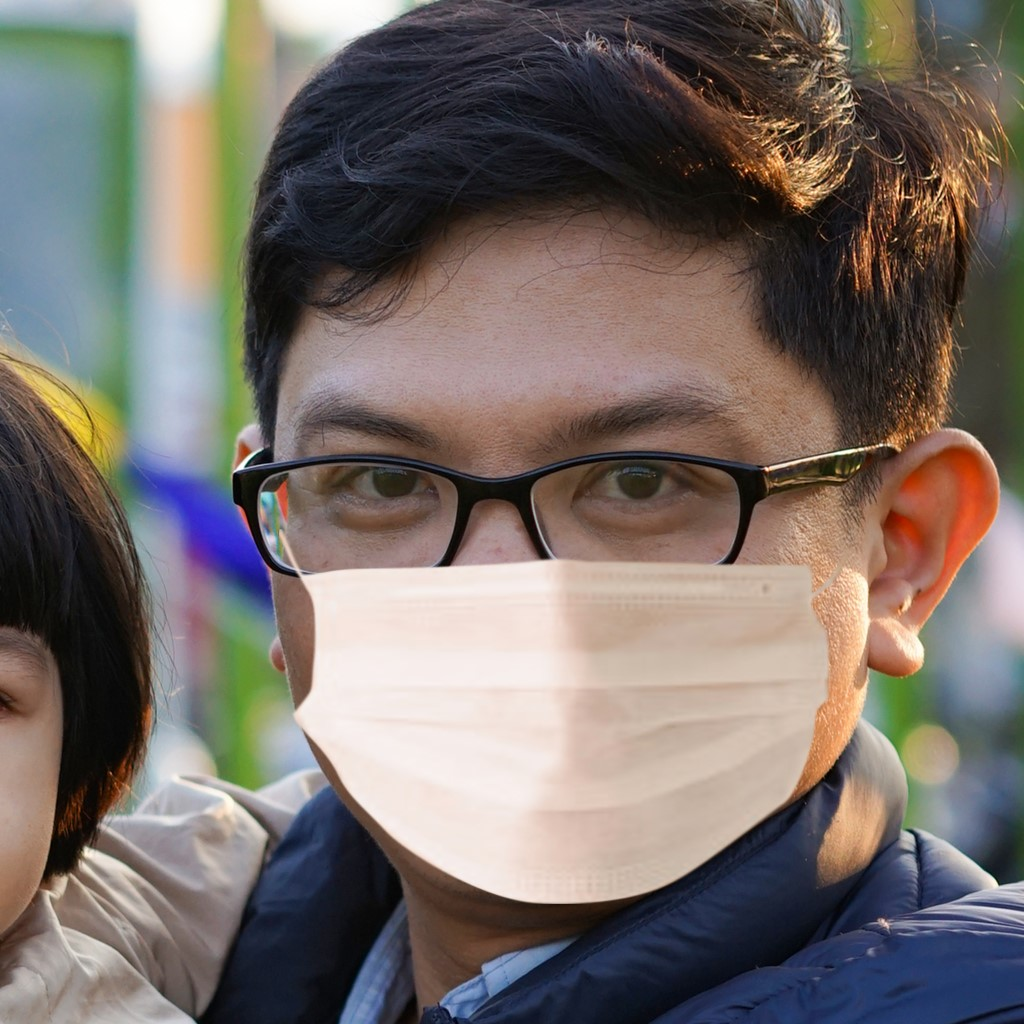con_mascara: (257, 214, 875, 895)
